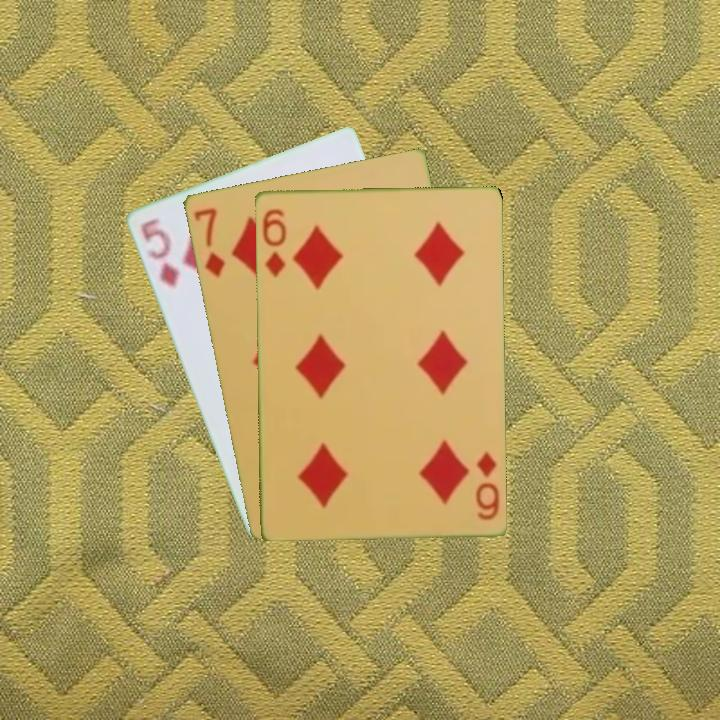5d: (136, 214, 182, 291)
6d: (471, 447, 502, 522), (259, 205, 289, 280)
7d: (189, 204, 228, 280)
